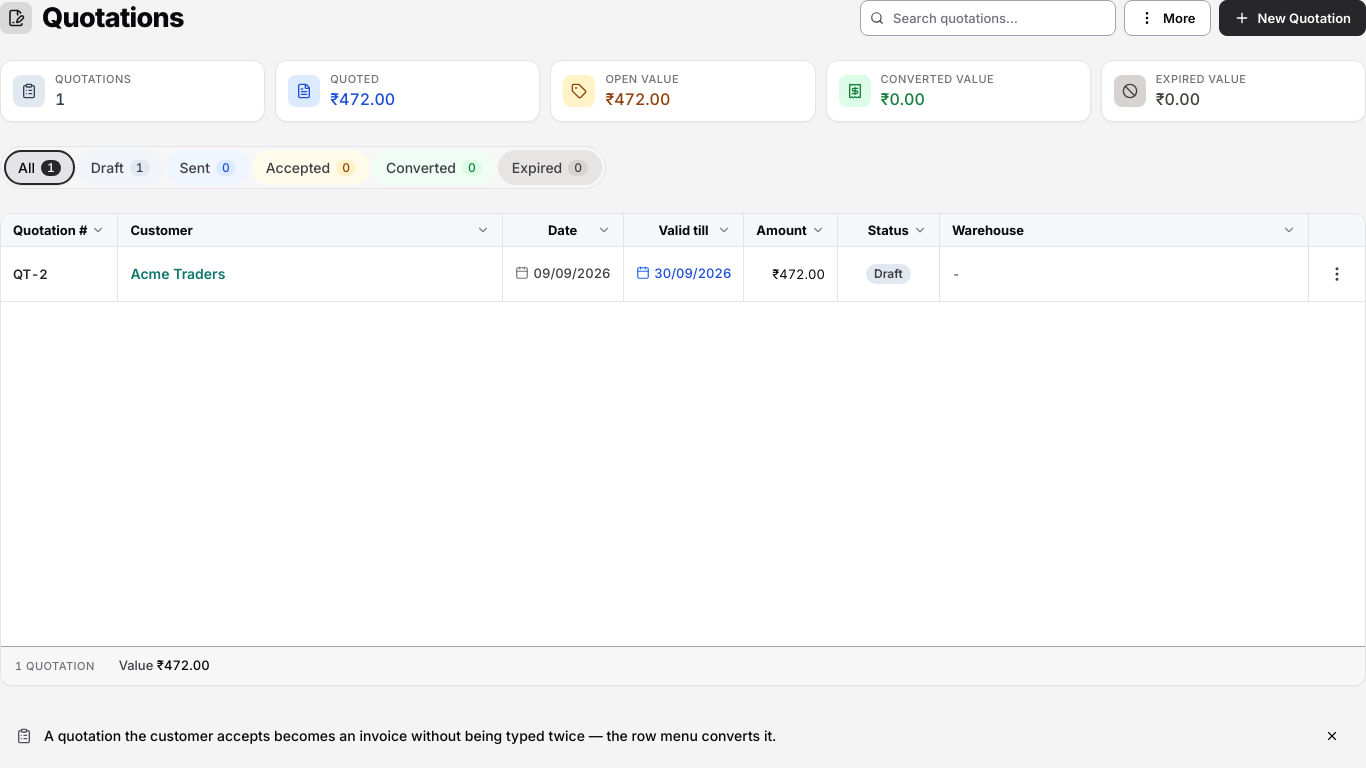
printing a quotation › says it is not a tax invoice
The image size is (1366, 768).
Step 1. Click the button named "Quotation actions" → (1337, 274), box x1=1321 y1=256 x2=1353 y2=292
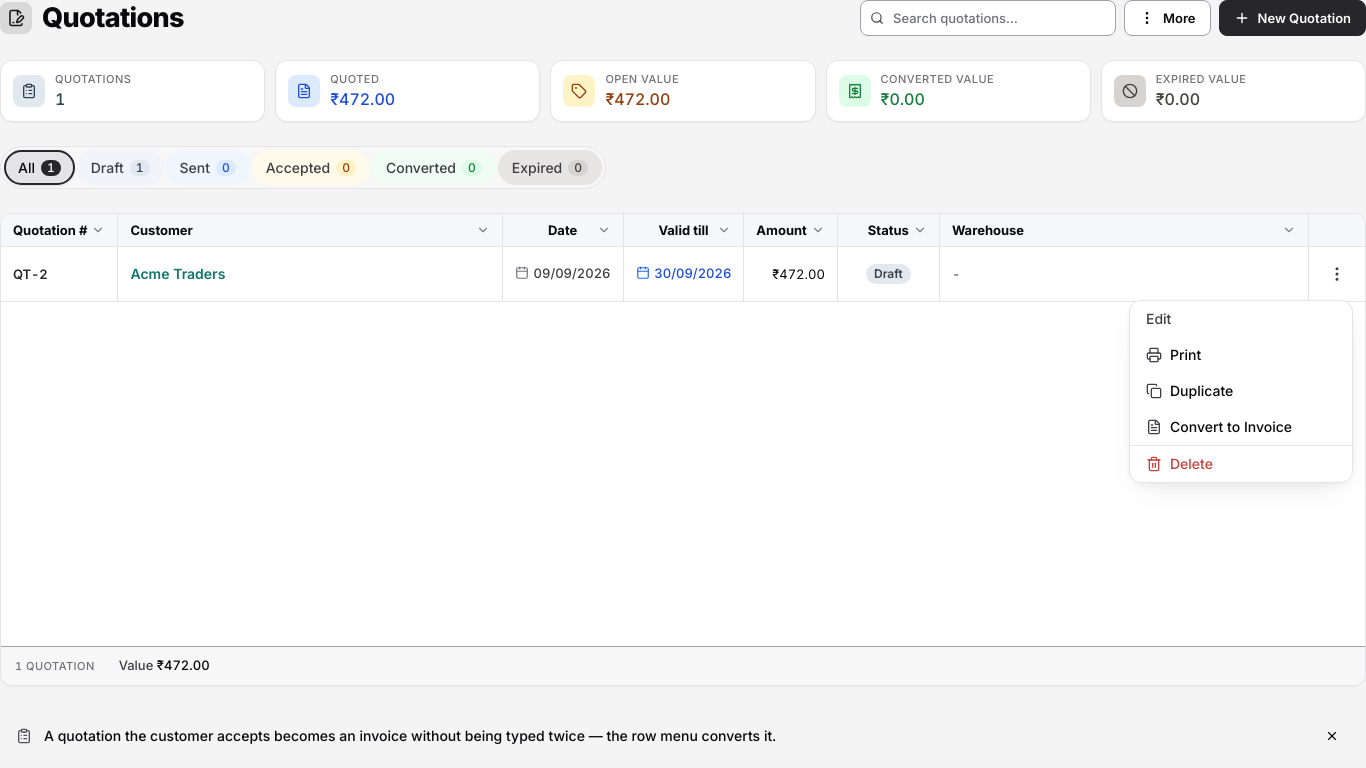
Step 2. Click the button with aria-label "Print quotation QT-2" → (1241, 355), box x1=1130 y1=337 x2=1352 y2=373
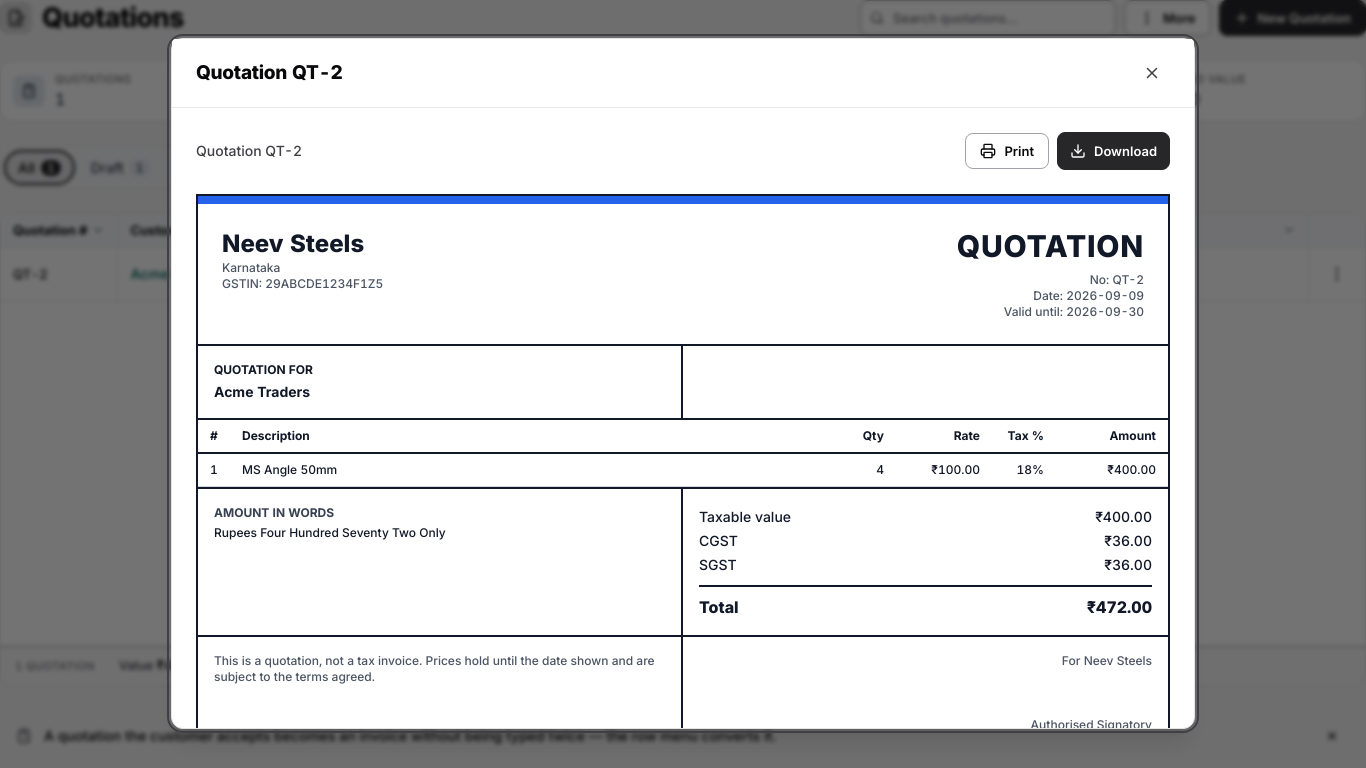
Expected: the text "not a tax invoice" is shown, x1=214 y1=653 x2=655 y2=684
